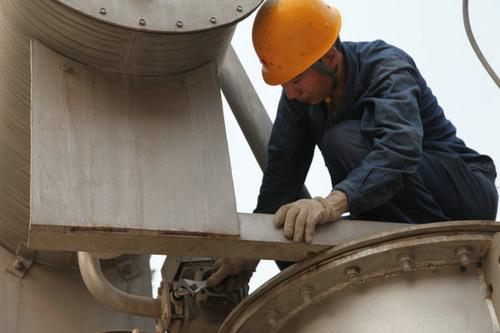gloves: (273, 189, 349, 244), (205, 256, 260, 292)
hard-hat: (251, 1, 341, 86)
person: (205, 0, 499, 294)
ppe-suit: (252, 37, 499, 225)
